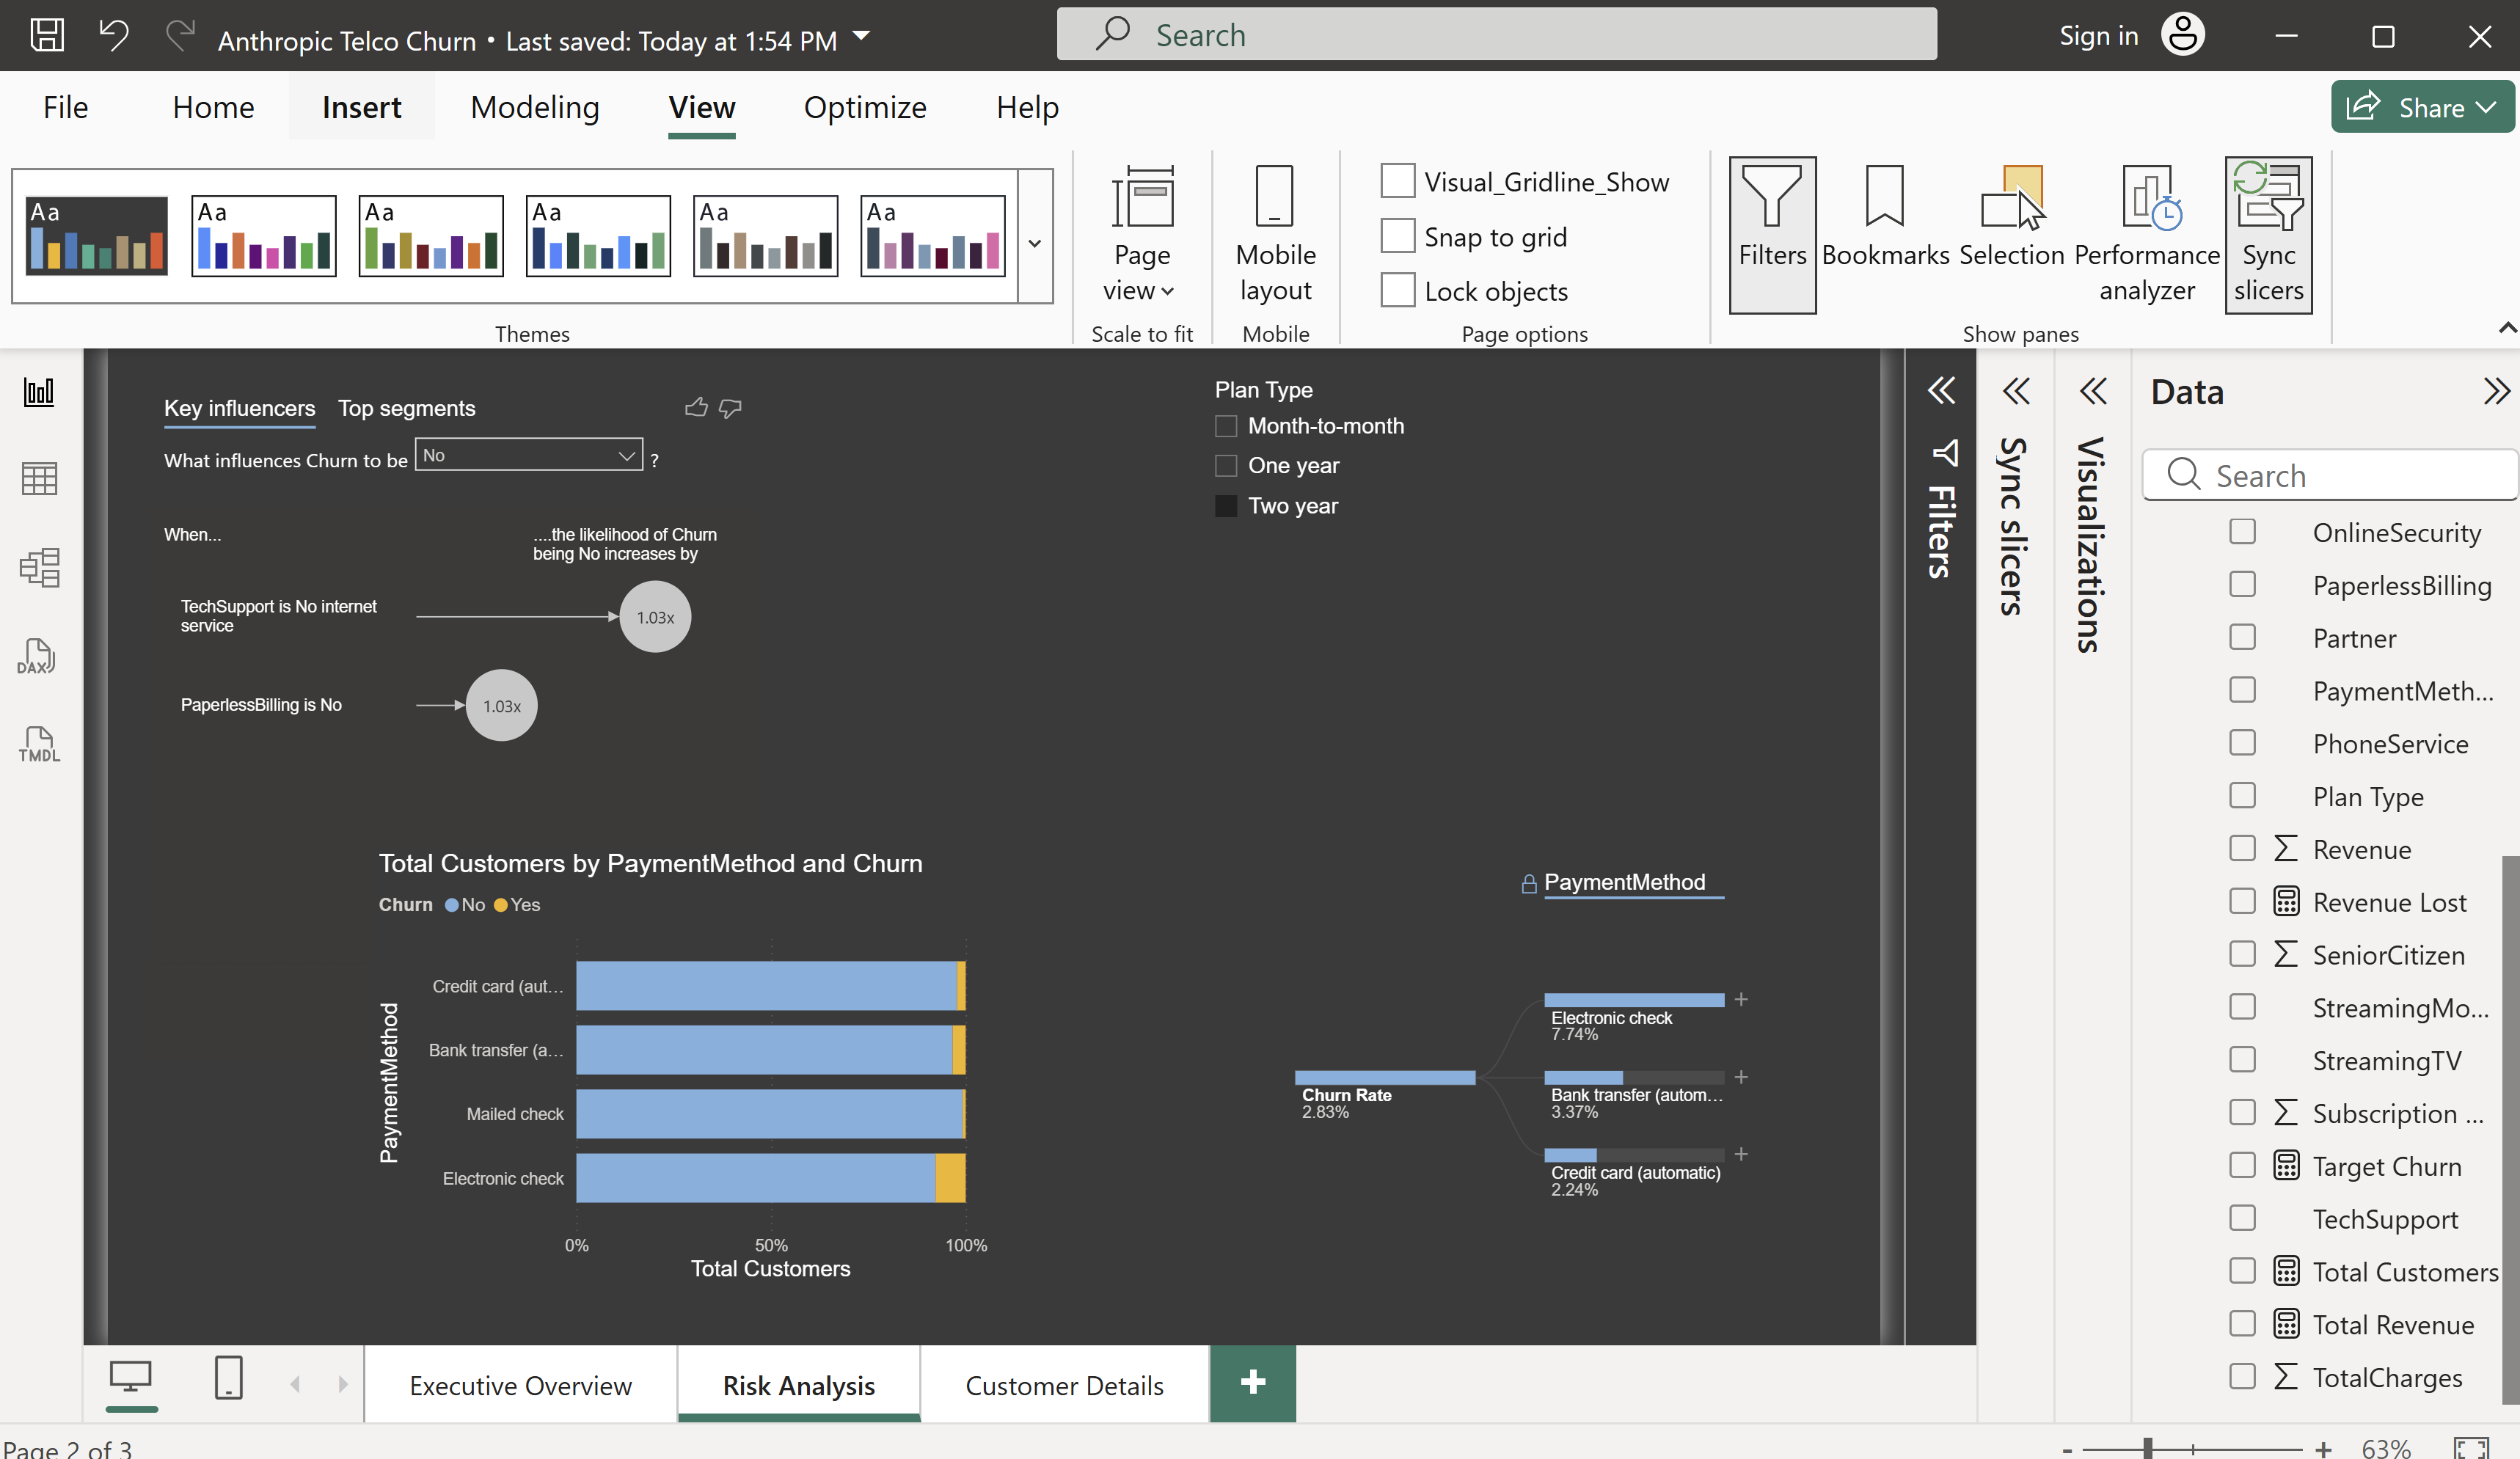

This screenshot's page, from the dashboard's own definition file:
{"tool":"powerbi","page":{"name":"Risk Analysis","canvas":[1280,720],"ordinal":1},"visuals":[{"type":"decompositionTreeVisual","fields":{"Analyze":["WA_Fn-UseC_-Telco-Customer-Churn.Churn Rate"],"ExplainBy":["WA_Fn-UseC_-Telco-Customer-Churn.PaymentMethod","WA_Fn-UseC_-Telco-Customer-Churn.Plan Type","WA_Fn-UseC_-Telco-Customer-Churn.AI Model Tier"]},"box":[618.5,35.8,493.4,275.3],"z":0},{"type":"keyDriversVisual","fields":{"Target":["WA_Fn-UseC_-Telco-Customer-Churn.Churn"],"ExplainBy":["WA_Fn-UseC_-Telco-Customer-Churn.Plan Type","WA_Fn-UseC_-Telco-Customer-Churn.TechSupport","WA_Fn-UseC_-Telco-Customer-Churn.PaperlessBilling"]},"box":[23.2,21.5,450.5,498.8],"z":1},{"type":"hundredPercentStackedBarChart","fields":{"Category":["WA_Fn-UseC_-Telco-Customer-Churn.PaymentMethod"],"Y":["WA_Fn-UseC_-Telco-Customer-Churn.Total Customers"],"Series":["WA_Fn-UseC_-Telco-Customer-Churn.Churn"]},"box":[686.5,361.1,450.5,318.2],"z":2},{"type":"slicer","fields":{"Values":["WA_Fn-UseC_-Telco-Customer-Churn.Plan Type"]},"box":[786.6,15.6,448.7,704.4],"z":3}]}

Visuals, with their boxes on the page's 1280x720 design canvas (x1, y1, x2, y2). These are canvas units, not pixel positions in the 2520x1459 screenshot, which may show the page scaled, cropped or inside an application window:
decompositionTreeVisual - WA_Fn-UseC_-Telco-Customer-Churn.Churn Rate x WA_Fn-UseC_-Telco-Customer-Churn.PaymentMethod: (left=618, top=36, right=1112, bottom=311)
keyDriversVisual - WA_Fn-UseC_-Telco-Customer-Churn.Churn x WA_Fn-UseC_-Telco-Customer-Churn.Plan Type: (left=23, top=22, right=474, bottom=520)
hundredPercentStackedBarChart - WA_Fn-UseC_-Telco-Customer-Churn.PaymentMethod x WA_Fn-UseC_-Telco-Customer-Churn.Total Customers: (left=686, top=361, right=1137, bottom=679)
slicer - WA_Fn-UseC_-Telco-Customer-Churn.Plan Type: (left=787, top=16, right=1235, bottom=720)
